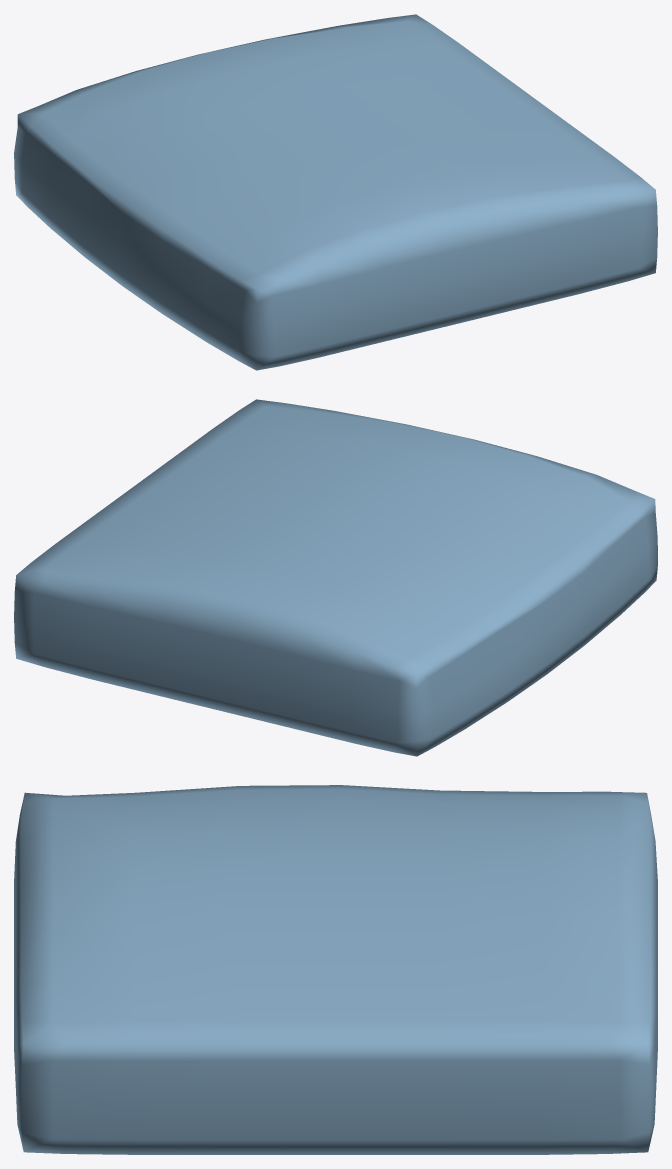
File: Pillow_01.fbx
The picture shows the model from 3 angles, top to bottom: view 1: azimuth 30°, elevation 25°; view 2: azimuth 150°, elevation 25°; view 3: azimuth 270°, elevation 25°; orthographic projection. The views are drawn at different scales.
Parts seen in each view (by area): view 1: Pillow_01; view 2: Pillow_01; view 3: Pillow_01.
Part boxes in pixels (x1=…): Pillow_01: x1=14, y1=14, x2=657, y2=370; Pillow_01: x1=14, y1=399, x2=657, y2=756; Pillow_01: x1=14, y1=785, x2=657, y2=1154.
Size of the model in its own units: 120 by 31.68 by 122.
